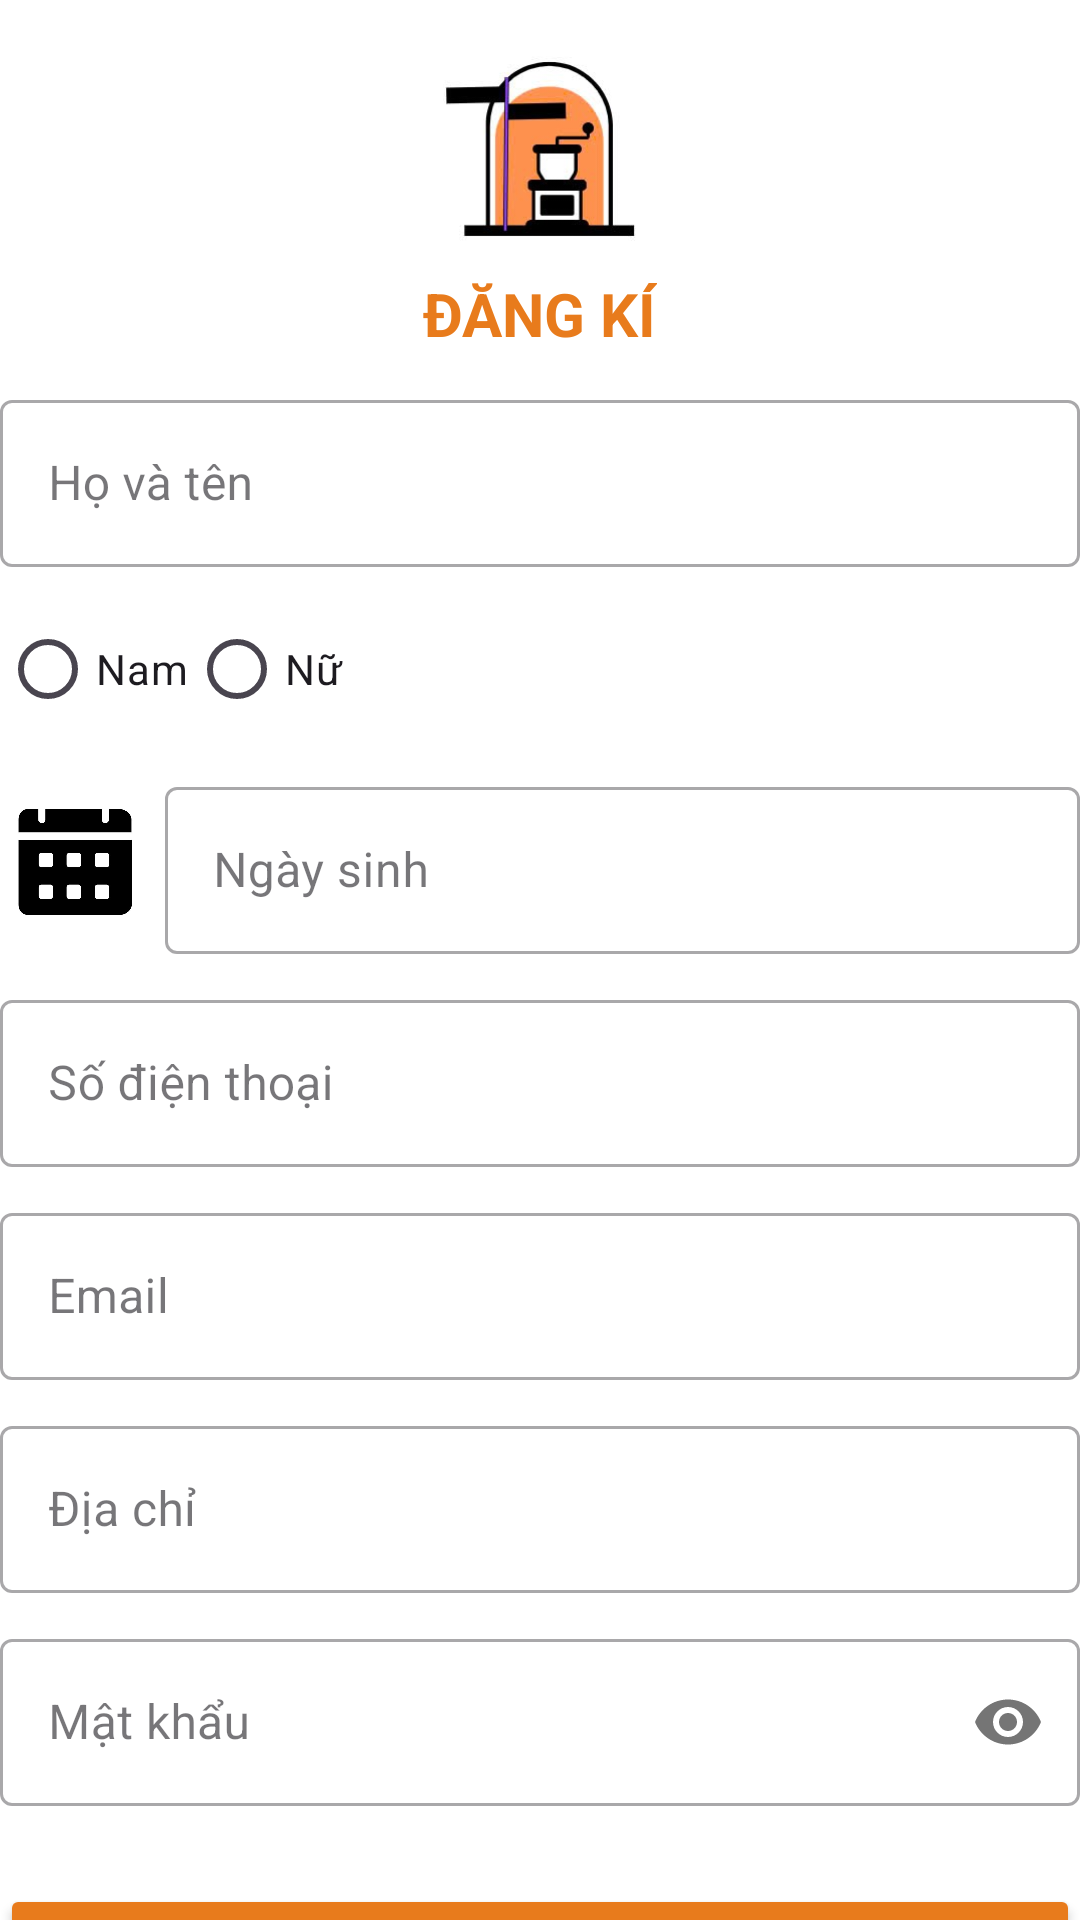

Point at icon controls on the screen. Image size 1080×1920, points as [x,y].
calendar: [75,862]
